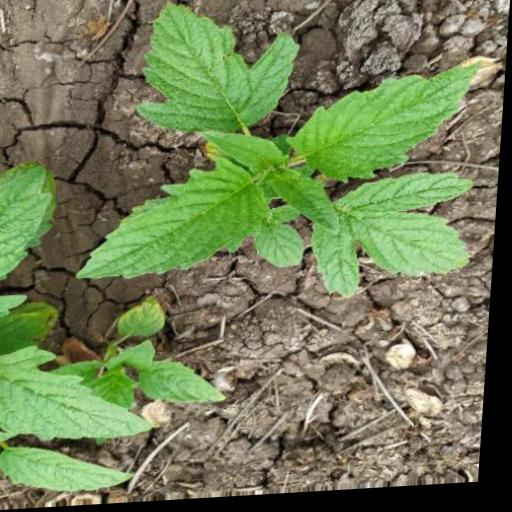crop: (75, 0, 504, 328)
